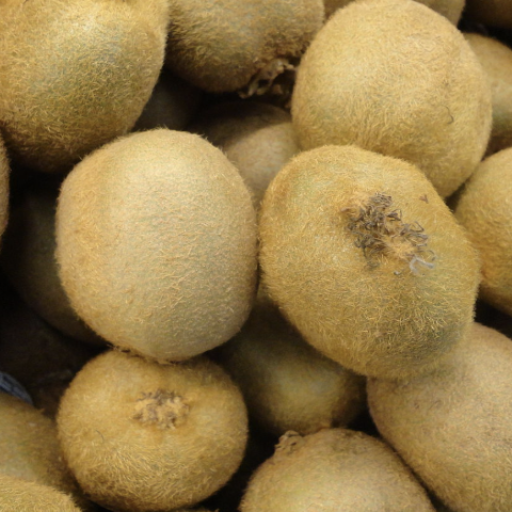kiwi: (32, 127, 284, 382), (244, 131, 485, 393), (284, 0, 500, 198), (50, 329, 251, 511)
